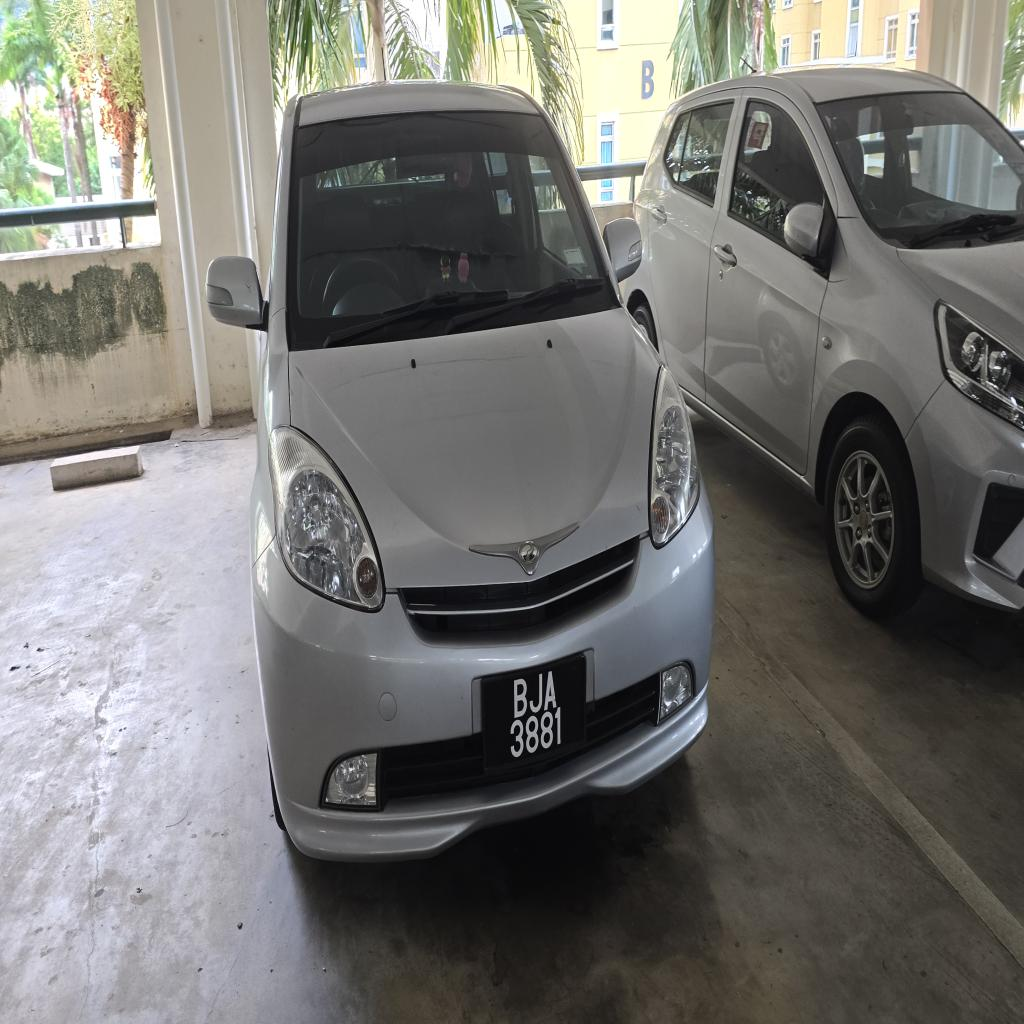car: (207, 83, 713, 859)
car plate: (482, 655, 585, 771)
